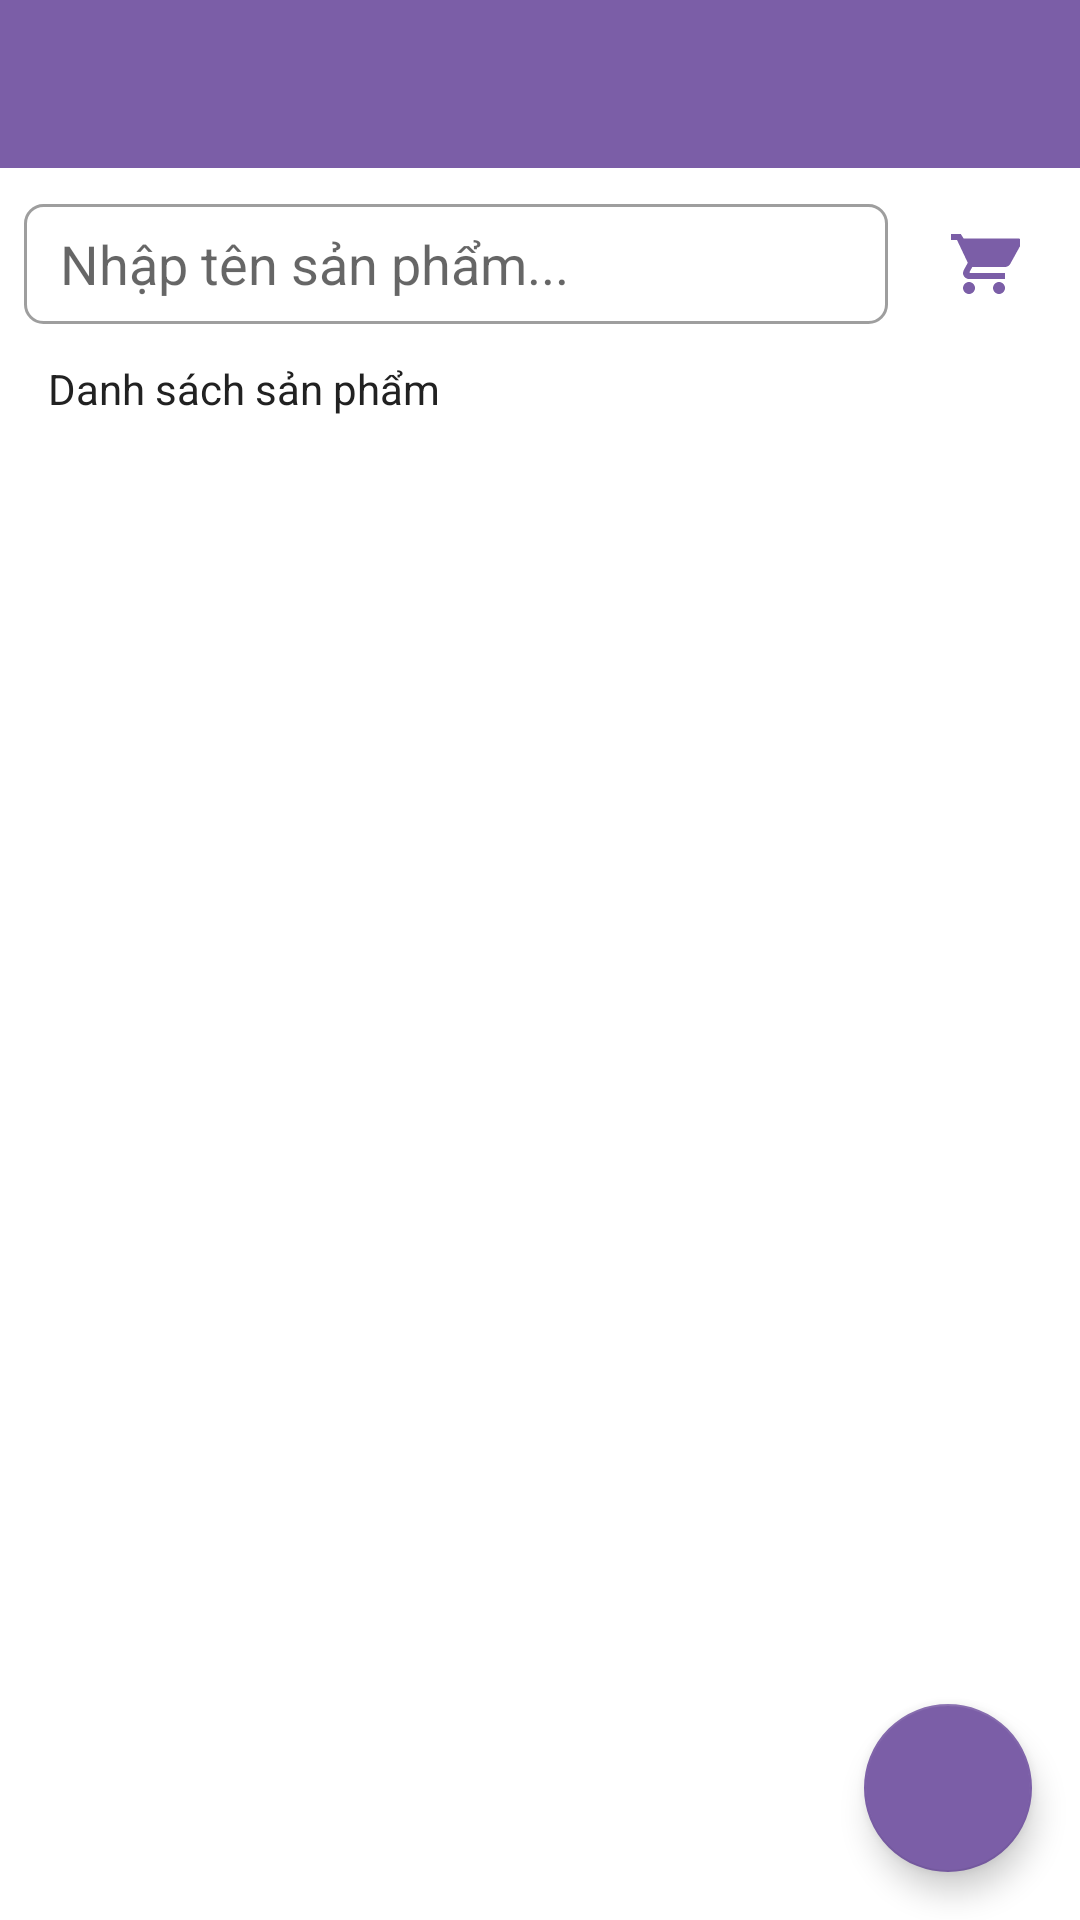

Point at icon controls on the screen. Image size 1080px x 1920px, points as point (x, y).
cart: point (985, 264)
